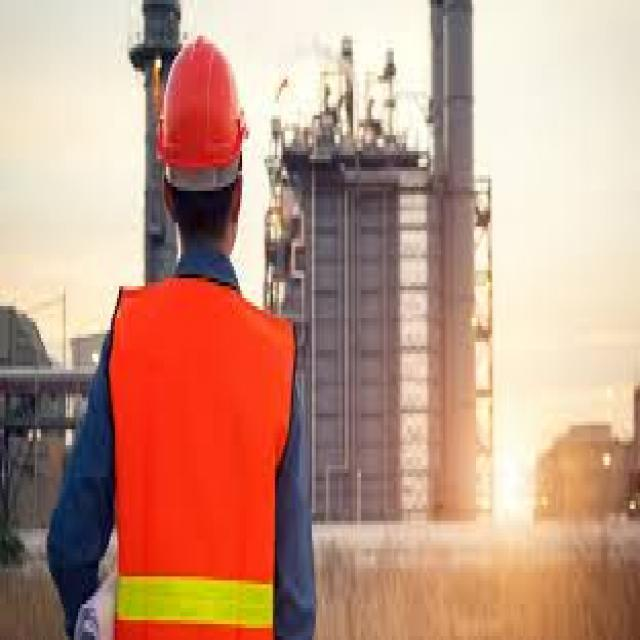reflective_jacket: (90, 262, 305, 639)
safety_helmet: (145, 27, 260, 214)
